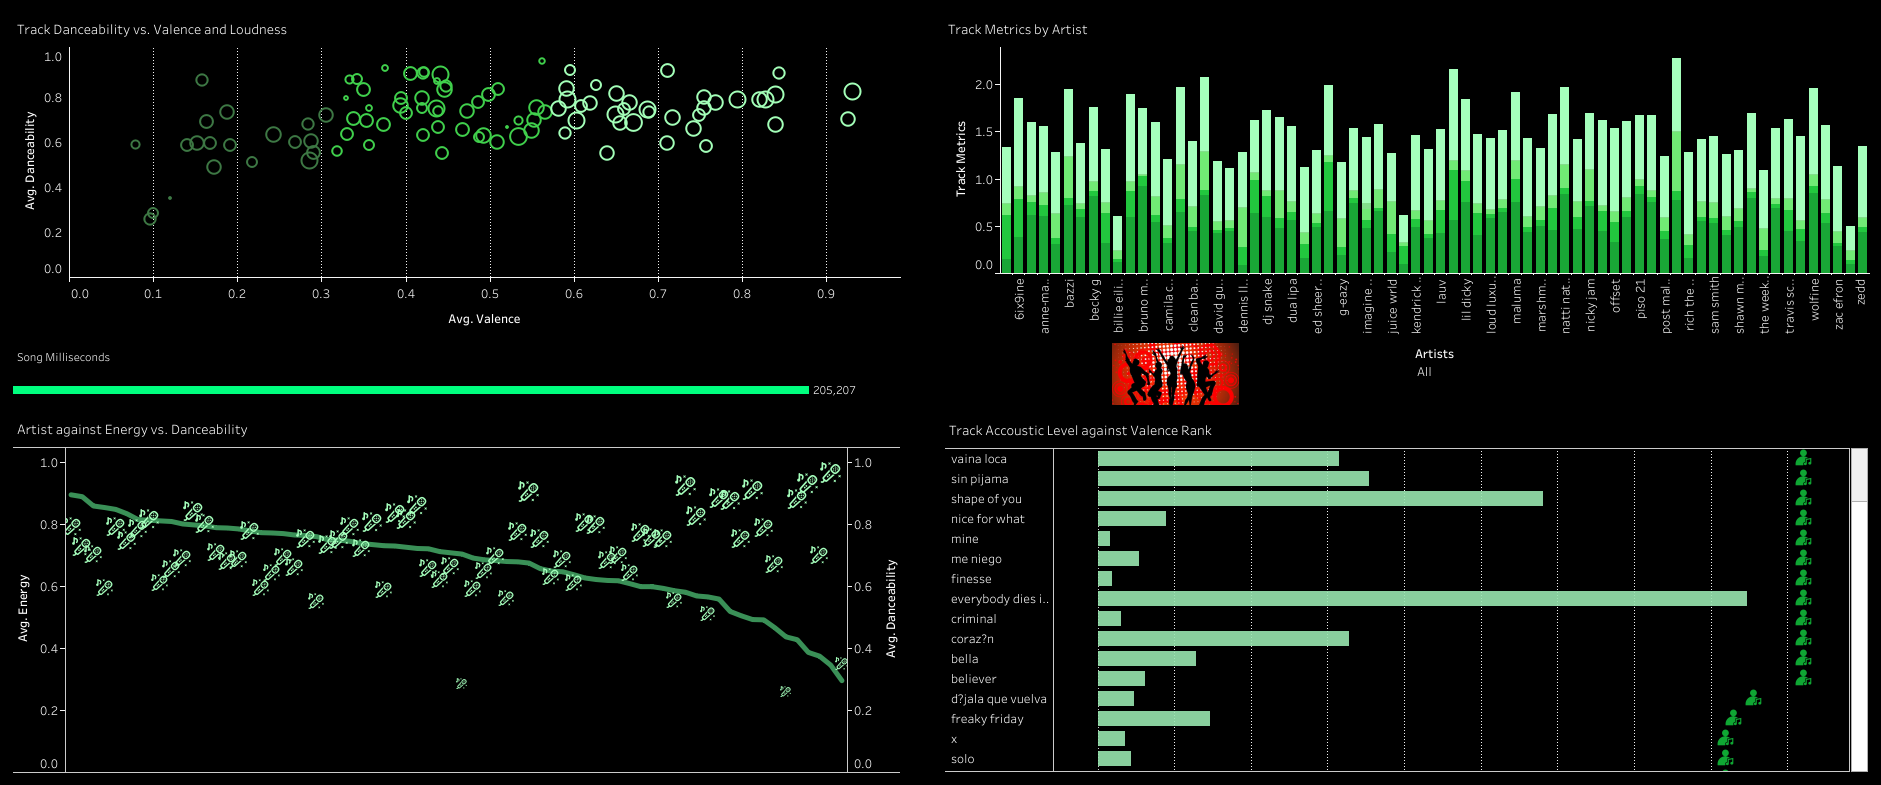

What the dashboard file says about the page in this screenshot:
{"tool":"tableau","page":{"name":"Dashboard 1","canvas":[1000,1000],"units":"permille","ordinal":0},"visuals":[{"type":"worksheet","title":"Track Valence","mark":"Automatic","rows":["danceability"],"cols":["valence"],"box":[5.4,10.6,475,419.5]},{"type":"blank","box":[480.4,10.6,19.3,419.5]},{"type":"worksheet","title":"Song Metrics","mark":"Automatic","cols":["cleaned_artists"],"box":[499.7,10.6,494.9,420.7]},{"type":"worksheet","title":"Total Miliseconds","mark":"Automatic","cols":["Calculation_1507017026303434752"],"box":[5.4,430.1,475,90.5]},{"type":"blank","box":[480.4,430.1,19.3,90.5]},{"type":"image","param":"Image/preview2.jpg","box":[499.7,431.2,249.8,89.2]},{"type":"filter","title":"Song Metrics","param":"[federated.1n6r9p91wzj93l11hzhux1rrgnw1].[none:cleaned_artists:nk]","box":[749.6,431.2,245,89.2]},{"type":"worksheet","title":"Artist by Energy","mark":"Line","rows":["energy","danceability"],"cols":["cleaned_artists"],"box":[5.4,520.5,475,468.9]},{"type":"blank","box":[480.4,520.5,19.3,468.9]},{"type":"worksheet","title":"Tracks","mark":"Bar","rows":["cleaned_name"],"cols":["acousticness"],"box":[499.7,520.5,494.9,468.9]}]}

Visuals, with their boxes on the dashboard's canvas, which has no fixed pixel size, in thousandths of its width and height (x1, y1, x2, y2). These are canvas units, not pixel positions in the 1881x785 screenshot, which may show the page scaled, cropped or inside an application window:
"Track Valence" worksheet: (x1=5, y1=11, x2=480, y2=430)
blank: (x1=480, y1=11, x2=500, y2=430)
"Song Metrics" worksheet: (x1=500, y1=11, x2=995, y2=431)
"Total Miliseconds" worksheet: (x1=5, y1=430, x2=480, y2=521)
blank: (x1=480, y1=430, x2=500, y2=521)
image: (x1=500, y1=431, x2=750, y2=520)
"Song Metrics" filter: (x1=750, y1=431, x2=995, y2=520)
"Artist by Energy" worksheet (Line marks): (x1=5, y1=520, x2=480, y2=989)
blank: (x1=480, y1=520, x2=500, y2=989)
"Tracks" worksheet (Bar marks): (x1=500, y1=520, x2=995, y2=989)
